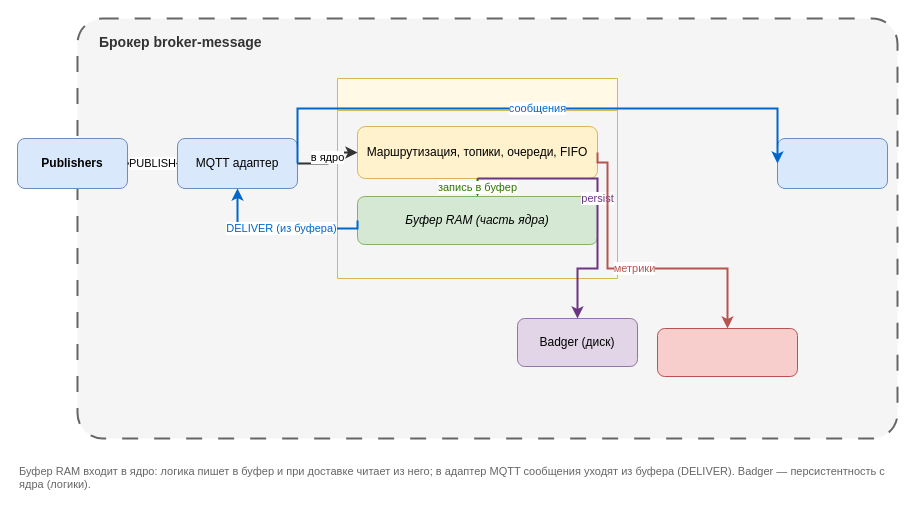
Image size: 916x523. Some labels were removed from this diagram. Here are the shapes that lost their labels. From the top down, the box of each, then its label:
(336, 78, 618, 278): Ядро брокера (логика + буфер RAM)
(776, 138, 888, 188): Subscribers
(656, 328, 798, 376): Админ / метрики / Web UI
